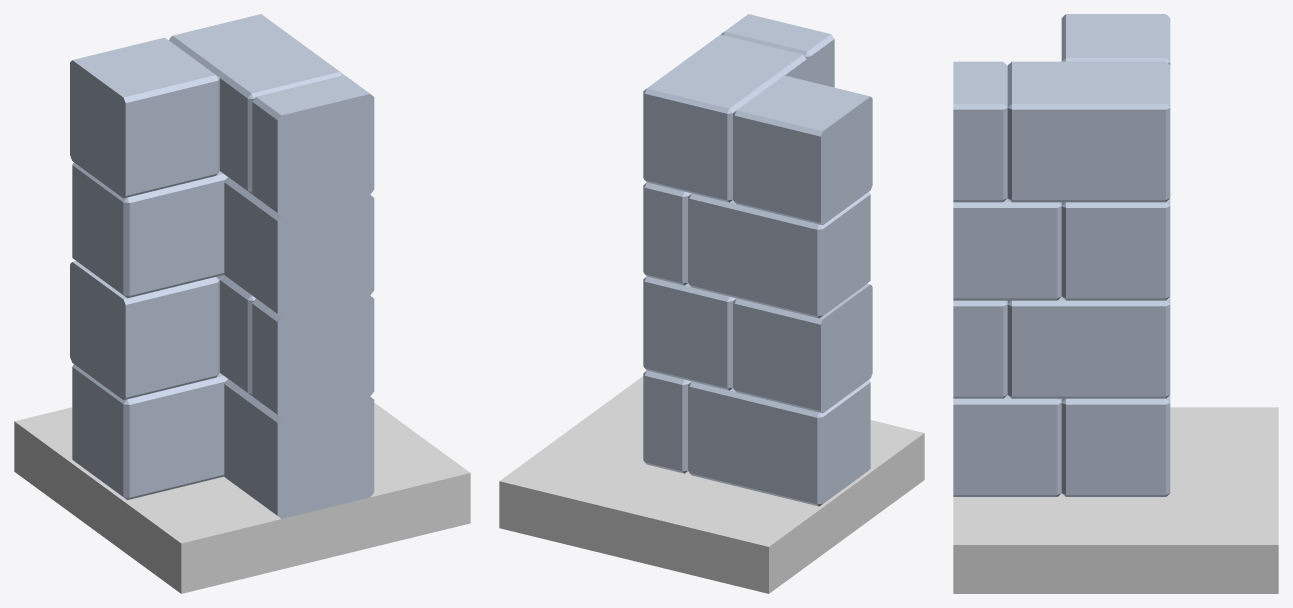
File: wall_corner_1.fbx
3 renders of one model, left to right at view 1: azimuth 30°, elevation 25°; view 2: azimuth 150°, elevation 25°; view 3: azimuth 270°, elevation 25°, orthographic. The views are drawn at different scales.
Visible parts, largest first — view 1: Cube.002; view 2: Cube.002; view 3: Cube.002.
Boxes of the visible parts, box(x1,y1,x2,y2) form: Cube.002: box(14, 14, 470, 593); Cube.002: box(499, 14, 924, 593); Cube.002: box(953, 14, 1278, 593).
Size of the model in its own units: 100 by 150 by 100.
